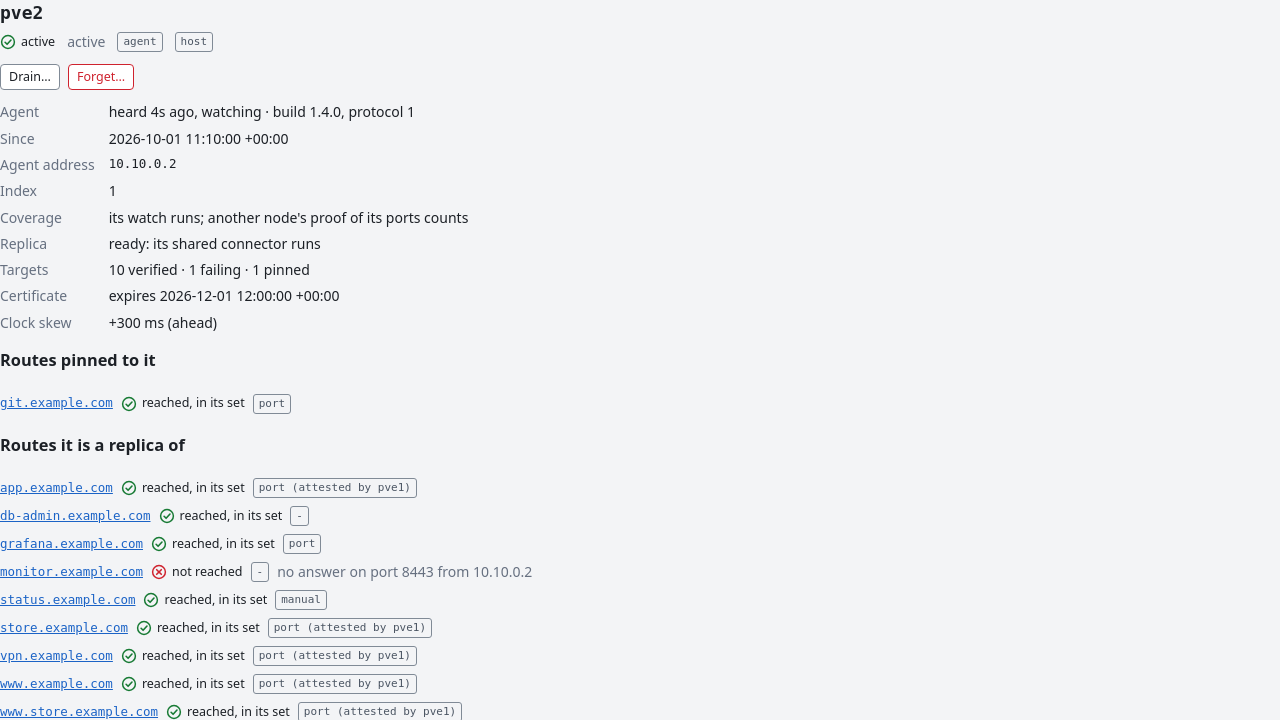
Scenario: draining and forgetting › the daemon’s refusal of a forget is shown as it is, with the pvecm delnode line it gives
The width and height of the screenshot is (1280, 720).
Click the button "Forget…": (101, 77) [68,64,134,90]
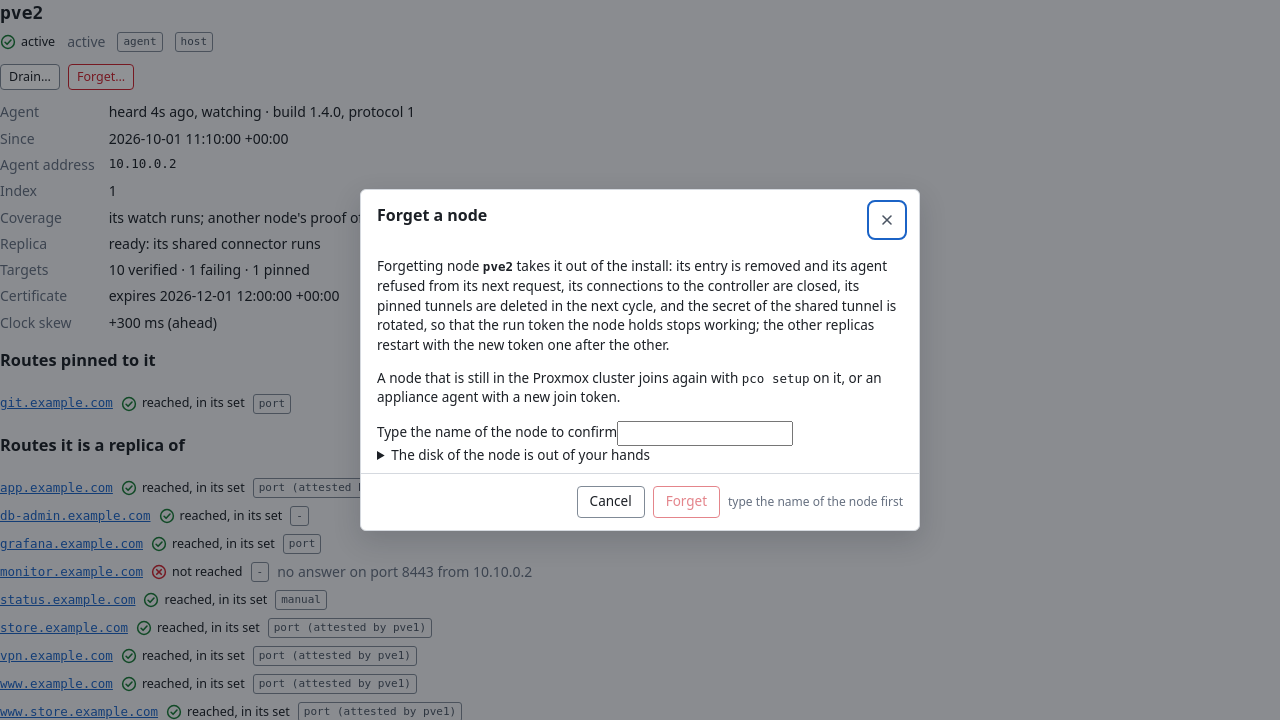
In the field labelled "Type the name of the node to confirm": (705, 433) [617,421,793,446], type "pve2"
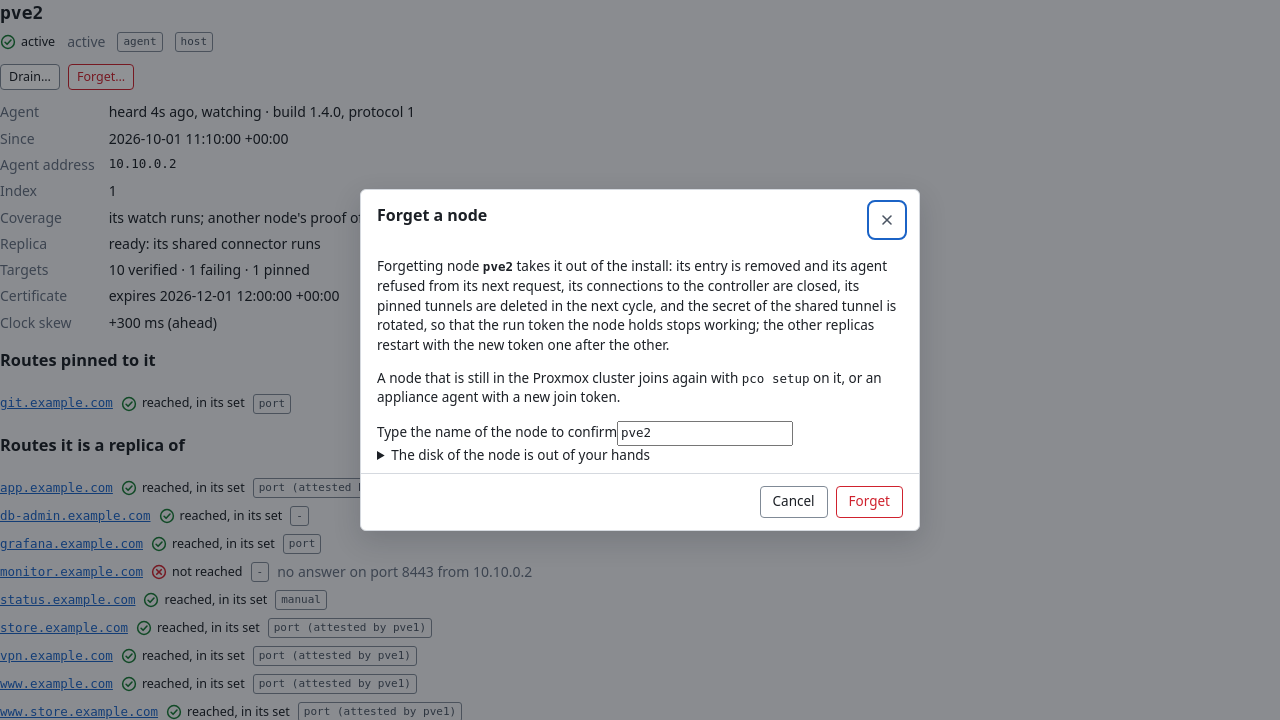
Click the button "Forget": (869, 502) [836,486,903,518]
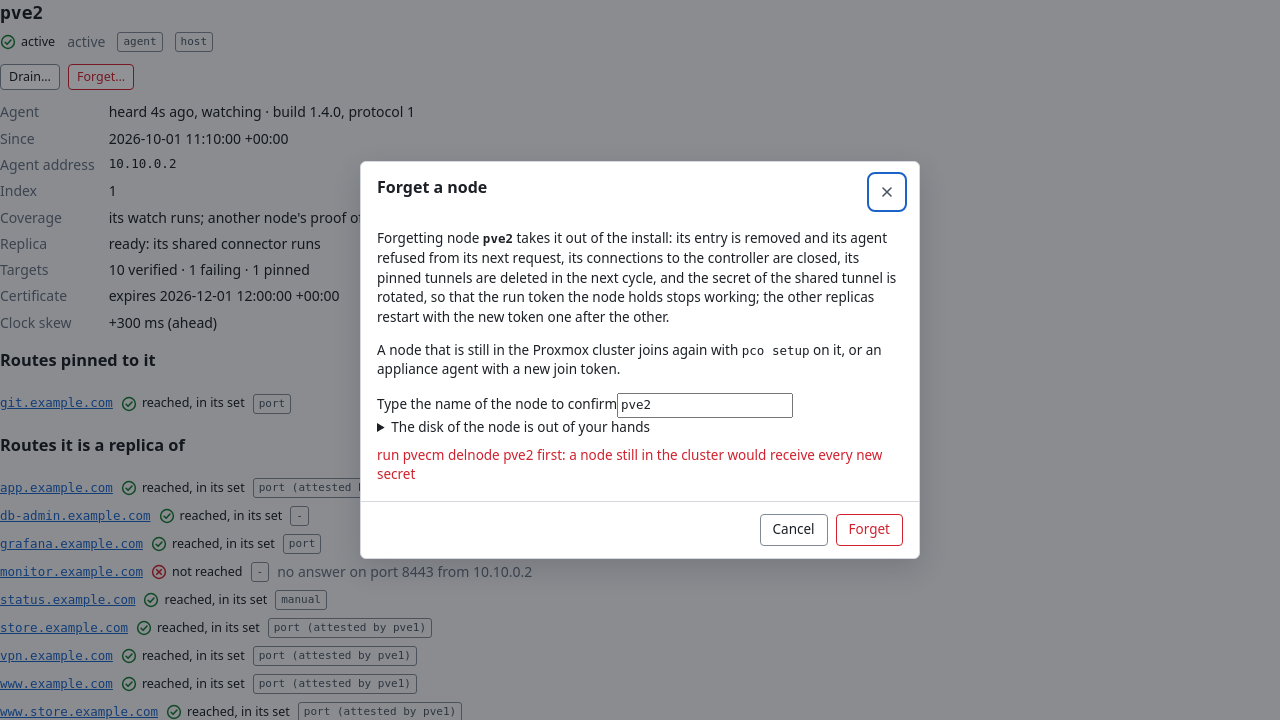
expect the text "run pvecm delnode pve2 first: a node still in the cluster would receive every new secret" is shown: met, box [377,446,882,483]
